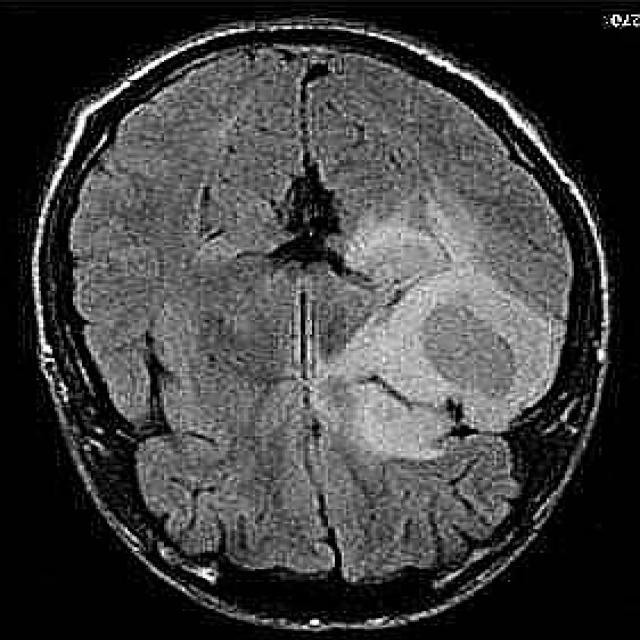Tumor-Cell: (327, 257, 568, 451)
